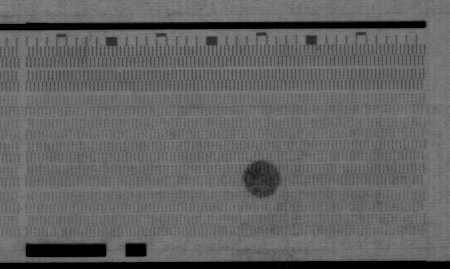Oblique printing: (114, 68, 127, 84)
